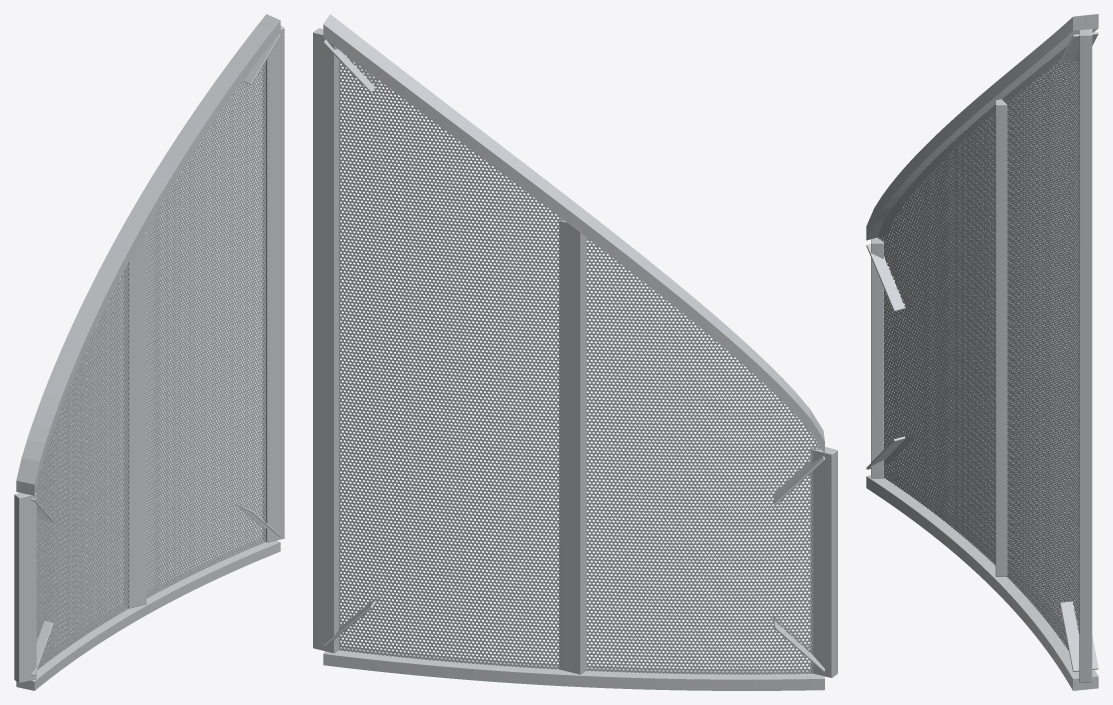
3 views of the same model, side by side, from view 1: azimuth 30°, elevation 25°; view 2: azimuth 150°, elevation 25°; view 3: azimuth 270°, elevation 25° (orthographic). The views are drawn at different scales.
Visible parts, largest first — view 1: PO2 0 -1 blacha, PO2 0 -1 profil gorny, PO2 0 -1 pion.001, PO2 0 -1 pion.002, PO2 0 -1 profil dolny, PO2 0 -1 pion, PO2 0 -1 skos dol; view 2: PO2 0 -1 blacha, PO2 0 -1 pion.001, PO2 0 -1 profil gorny, PO2 0 -1 pion.002, PO2 0 -1 profil dolny, PO2 0 -1 pion; view 3: PO2 0 -1 blacha, PO2 0 -1 pion.001, PO2 0 -1 pion.002, PO2 0 -1 profil dolny, PO2 0 -1 profil gorny, PO2 0 -1 pion, PO2 0 -1 skos dol.001, PO2 0 -1 skos gora, PO2 0 -1 skos gora.001.
Boxes of the visible parts, <box> form: PO2 0 -1 blacha: <box>25,61,265,688</box>; PO2 0 -1 profil gorny: <box>16,14,280,495</box>; PO2 0 -1 pion.001: <box>262,25,284,542</box>; PO2 0 -1 pion.002: <box>124,232,146,608</box>; PO2 0 -1 profil dolny: <box>16,538,280,690</box>; PO2 0 -1 pion: <box>14,493,36,683</box>; PO2 0 -1 skos dol: <box>30,620,53,675</box>; PO2 0 -1 blacha: <box>339,52,821,674</box>; PO2 0 -1 pion.001: <box>313,28,340,653</box>; PO2 0 -1 profil gorny: <box>323,14,824,454</box>; PO2 0 -1 pion.002: <box>559,220,586,674</box>; PO2 0 -1 profil dolny: <box>323,645,824,690</box>; PO2 0 -1 pion: <box>810,445,837,677</box>; PO2 0 -1 blacha: <box>877,15,1086,689</box>; PO2 0 -1 pion.001: <box>1079,29,1092,682</box>; PO2 0 -1 pion.002: <box>995,99,1008,576</box>; PO2 0 -1 profil dolny: <box>866,471,1098,690</box>; PO2 0 -1 profil gorny: <box>866,14,1098,240</box>; PO2 0 -1 pion: <box>871,236,883,478</box>; PO2 0 -1 skos dol.001: <box>1060,601,1098,671</box>; PO2 0 -1 skos gora: <box>866,240,915,311</box>; PO2 0 -1 skos gora.001: <box>1060,32,1098,62</box>.
Bounding box in the file's own units: 0.9708 × 1.42 × 0.442.
3 materials, 1 textured.
